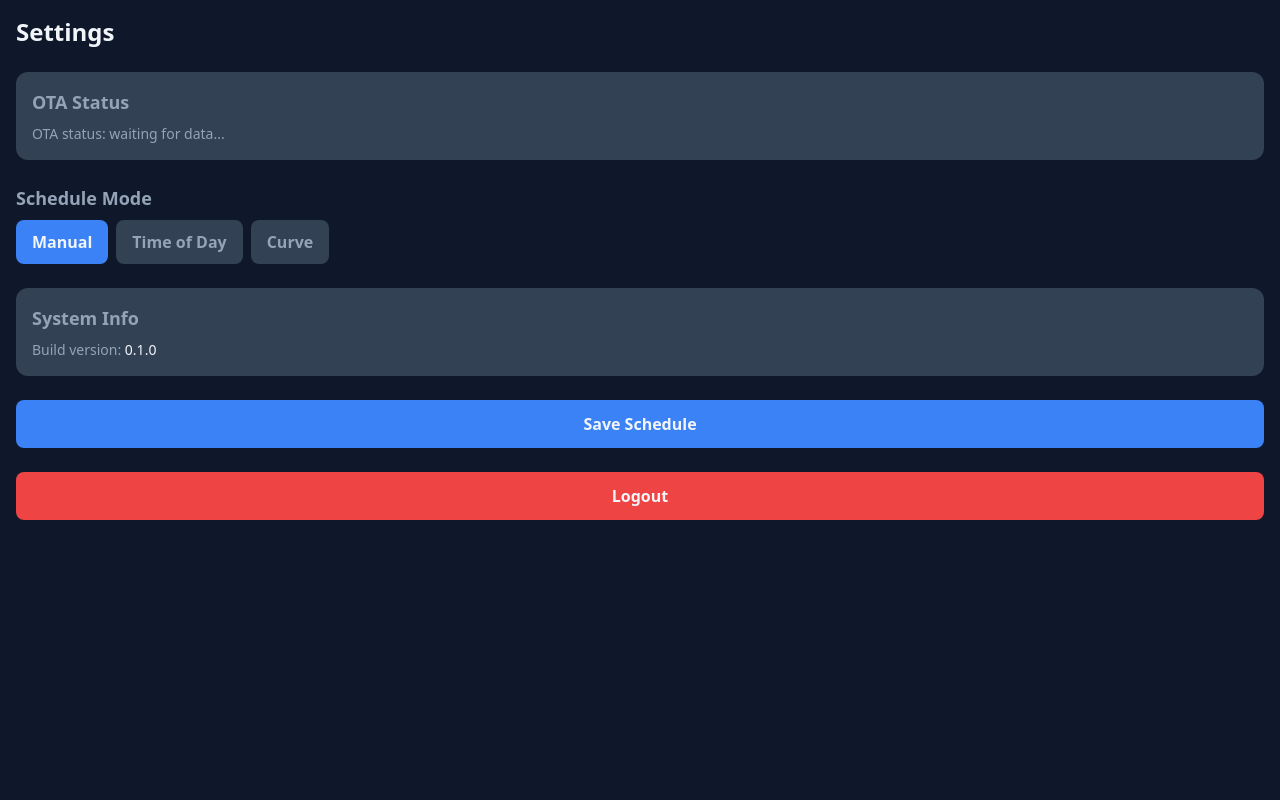
Scenario: SettingsScreen › selecting time_of_day mode shows time windows section
The width and height of the screenshot is (1280, 800).
Click the button with test id "mode-time_of_day": x=179, y=242 [116,220,243,264]
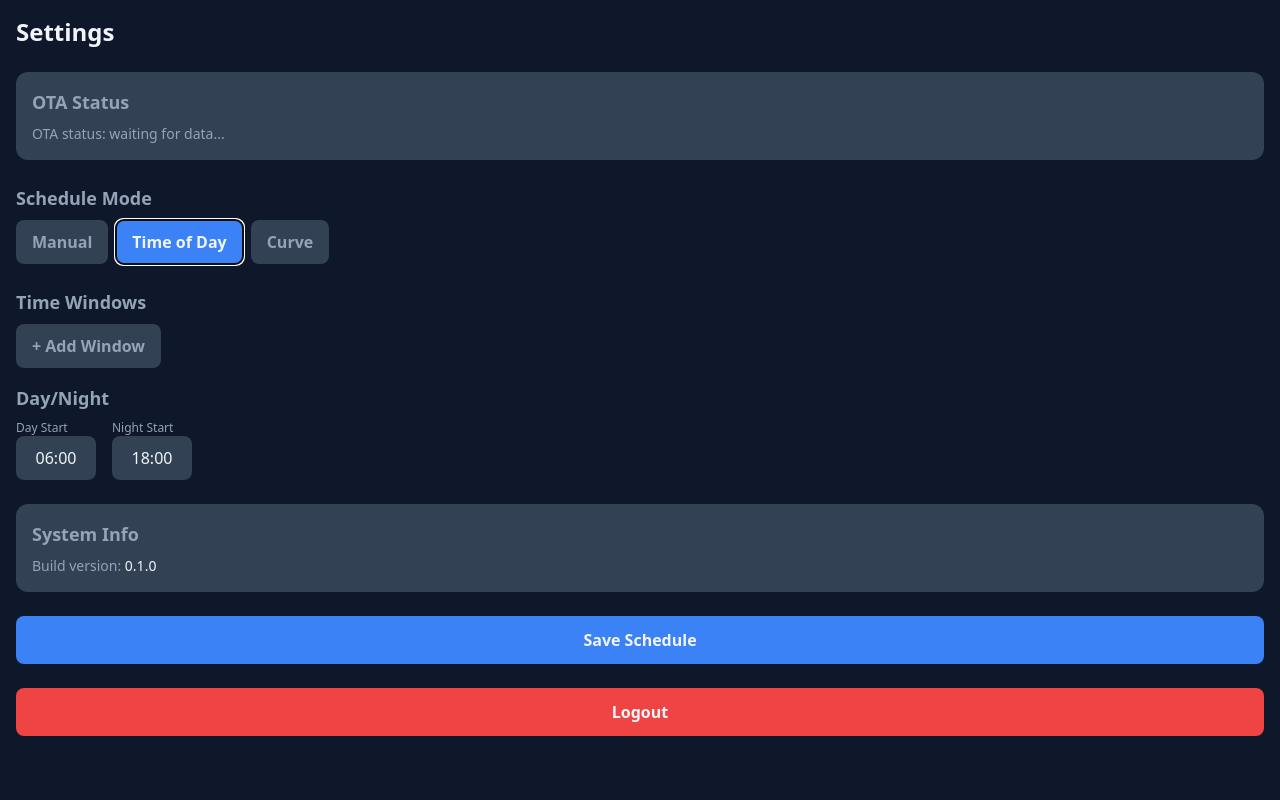
Now the element with test id "time-windows-section" is shown, box [16,290,192,480]
